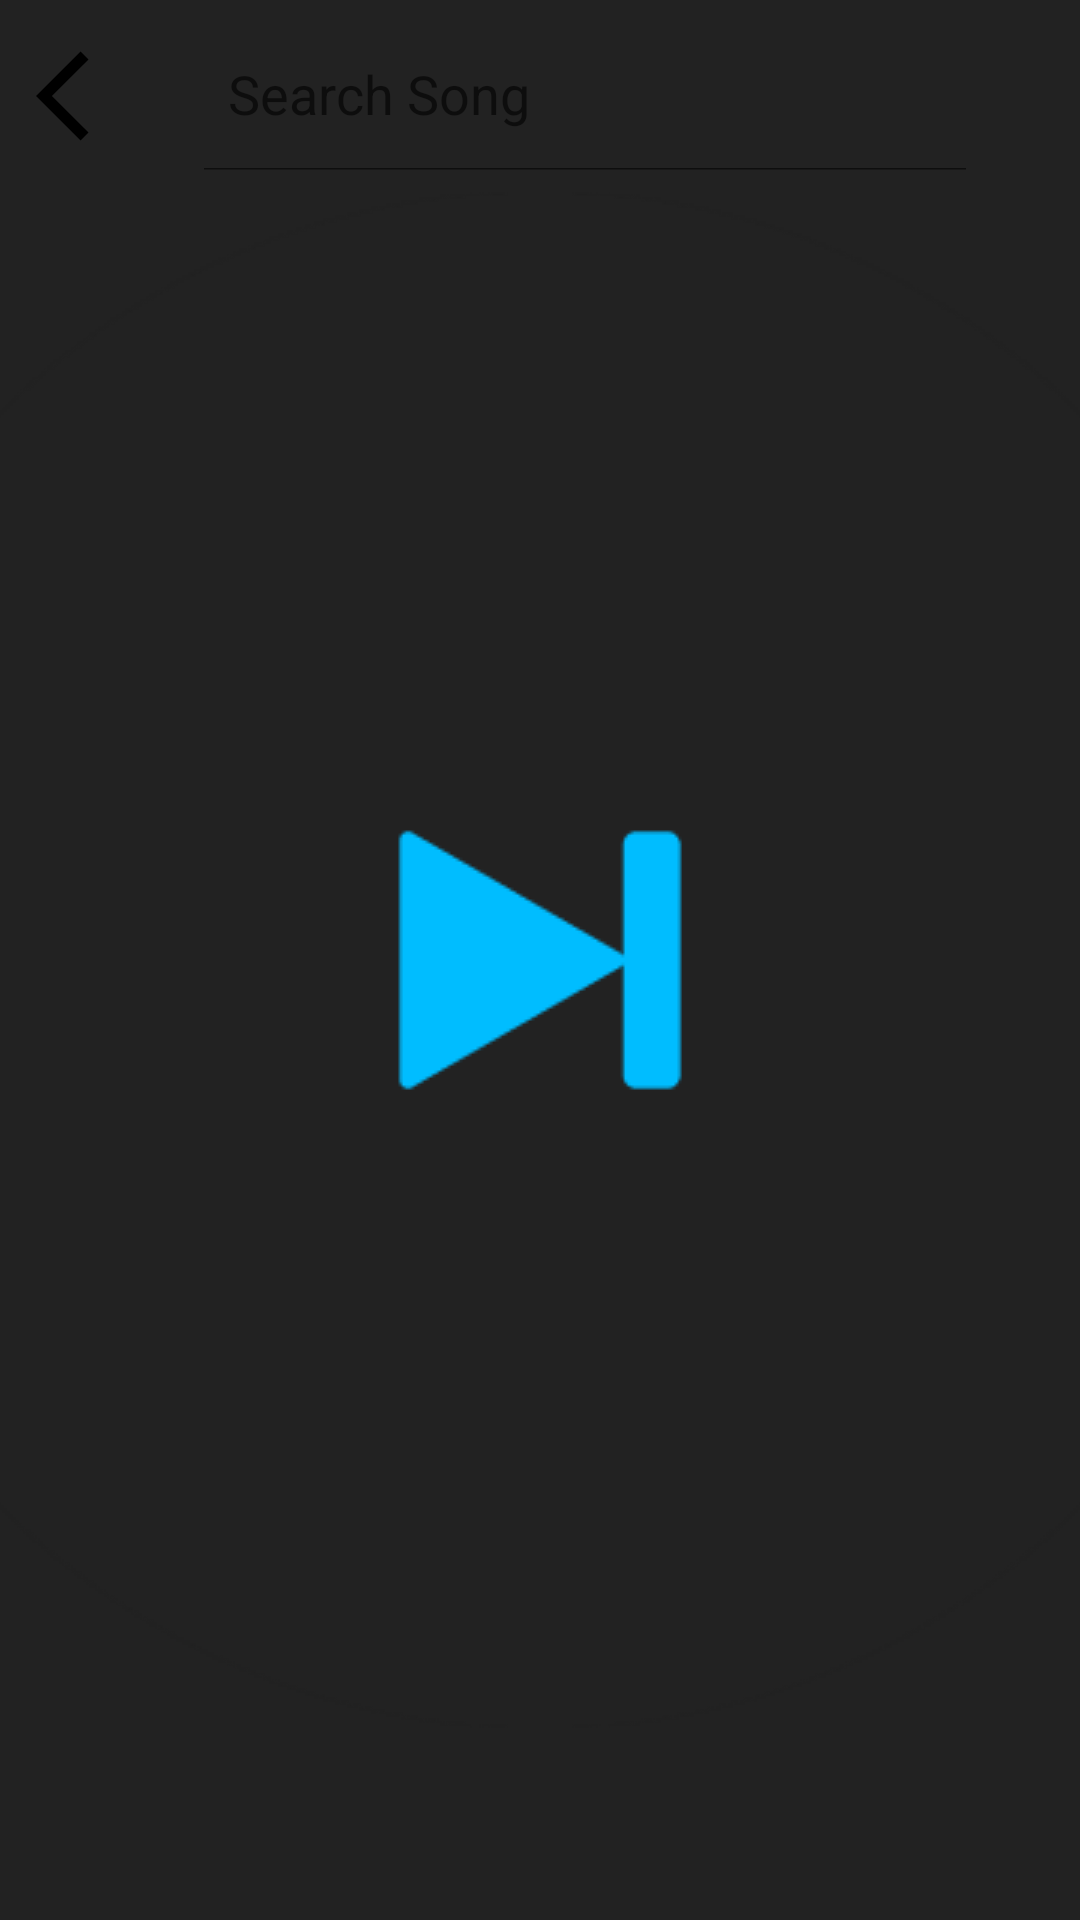

Named icons in this screenshot (1080×1920) and their bounding boxes, (x1, y1, x2, y2):
Back: (37, 52, 88, 140)
